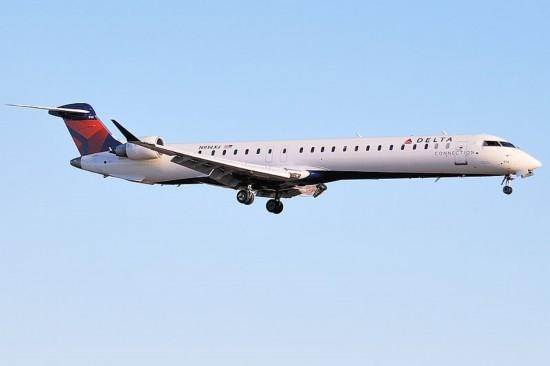airplane: (4, 95, 542, 213)
